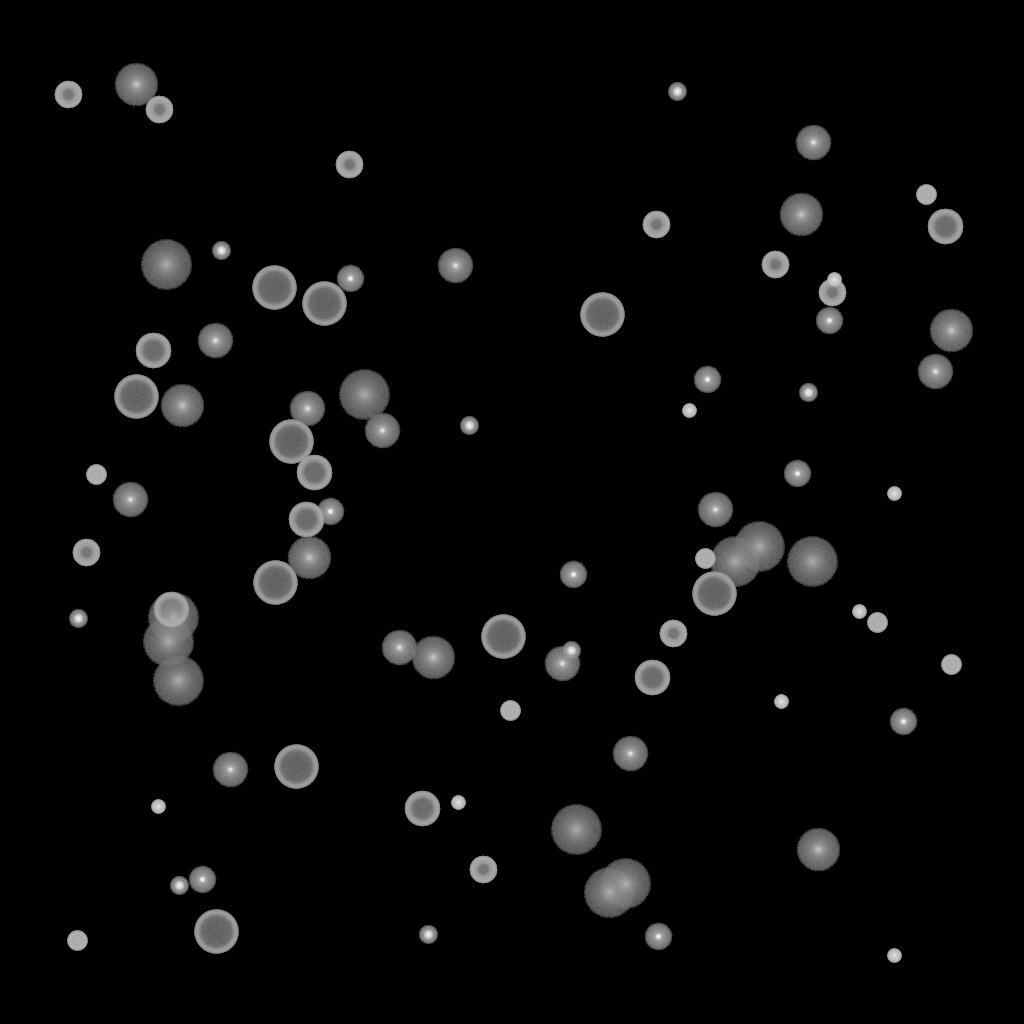depth:-10: (783, 460, 811, 488), (188, 866, 216, 894), (316, 498, 344, 526), (693, 366, 721, 394), (644, 923, 672, 951), (889, 708, 917, 736), (336, 265, 364, 293), (815, 307, 843, 335), (559, 561, 587, 589)
depth:-20: (170, 877, 188, 895), (69, 610, 87, 628), (212, 242, 230, 260), (460, 417, 478, 435), (799, 384, 817, 402), (562, 642, 580, 660), (668, 83, 686, 101), (419, 926, 437, 944)
depth:-30: (451, 796, 465, 810), (887, 949, 901, 963), (852, 605, 866, 619), (682, 404, 696, 418), (774, 695, 788, 709), (887, 487, 901, 501), (827, 273, 841, 287), (151, 800, 165, 814)
depth:-40: (500, 701, 520, 721), (86, 465, 106, 485), (916, 185, 936, 205), (695, 549, 715, 569), (67, 931, 87, 951), (867, 613, 887, 633), (941, 655, 961, 675)
depth:-50: (818, 279, 846, 307), (761, 251, 789, 279), (469, 856, 497, 884), (72, 539, 100, 567), (659, 620, 687, 648), (145, 96, 173, 124), (335, 151, 363, 179), (54, 81, 82, 109), (642, 211, 670, 239)
depth:-60: (153, 592, 189, 628), (927, 209, 963, 245), (296, 455, 332, 491), (634, 660, 670, 696), (288, 502, 324, 538), (135, 333, 171, 369), (404, 791, 440, 827)
depth:-70: (253, 561, 297, 605), (580, 293, 624, 337), (252, 266, 296, 310), (114, 375, 158, 419), (481, 615, 525, 659), (302, 282, 346, 326), (692, 572, 736, 616), (194, 910, 238, 954), (274, 745, 318, 789), (269, 420, 313, 464)
depth:0: (612, 736, 648, 772), (697, 492, 733, 528), (197, 323, 233, 359), (212, 752, 248, 788), (437, 248, 473, 284), (544, 646, 580, 682), (381, 630, 417, 666), (364, 413, 400, 449), (917, 354, 953, 390), (289, 391, 325, 427), (795, 125, 831, 161), (112, 482, 148, 518)
depth:10: (929, 309, 973, 353), (287, 536, 331, 580), (160, 384, 204, 428), (114, 63, 158, 107), (779, 193, 823, 237), (796, 828, 840, 872), (411, 636, 455, 680)
depth:20: (140, 240, 192, 290), (733, 522, 785, 572), (709, 537, 761, 587), (786, 537, 838, 587), (583, 868, 635, 918), (147, 593, 199, 643), (152, 656, 204, 706), (338, 370, 390, 420), (550, 805, 602, 855), (142, 617, 194, 667), (599, 859, 651, 909)
